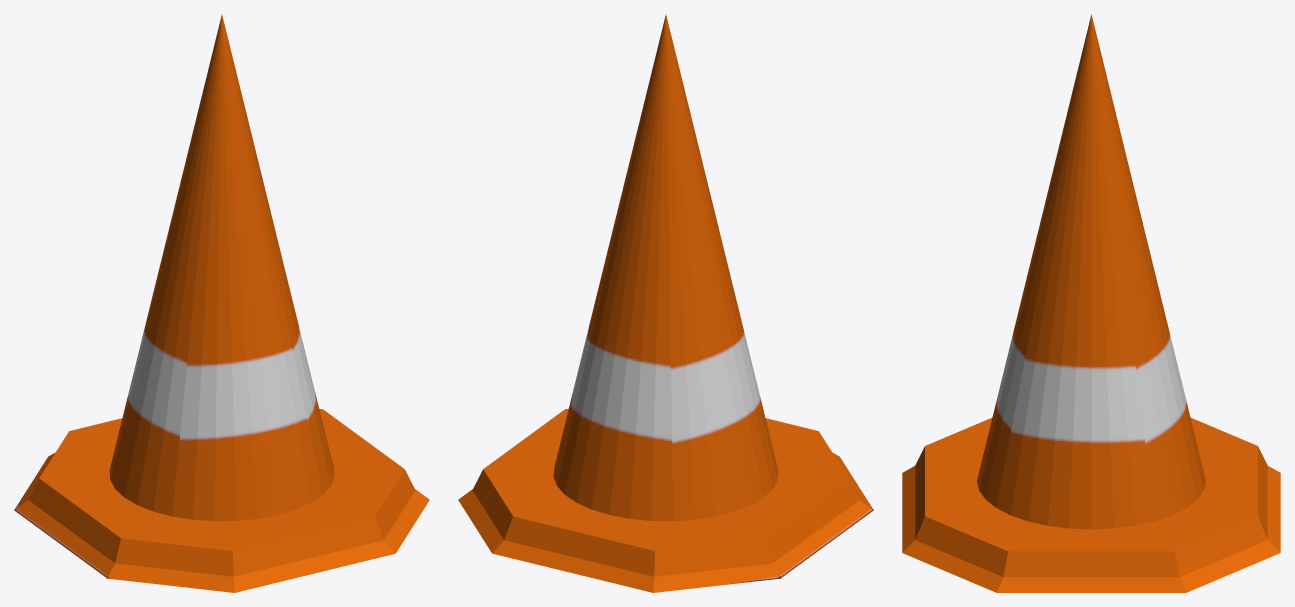
Rendered from wall_prop3.fbx.
3 renders of one model, left to right at view 1: azimuth 30°, elevation 25°; view 2: azimuth 150°, elevation 25°; view 3: azimuth 270°, elevation 25°, orthographic.
Visible parts, largest first — view 1: 円錐; view 2: 円錐; view 3: 円錐.
Part boxes in pixels (bbox=[...]): 円錐: bbox=[14, 15, 429, 592]; 円錐: bbox=[458, 15, 873, 592]; 円錐: bbox=[902, 14, 1280, 592].
Size of the model in its own units: 245 by 356 by 245.
